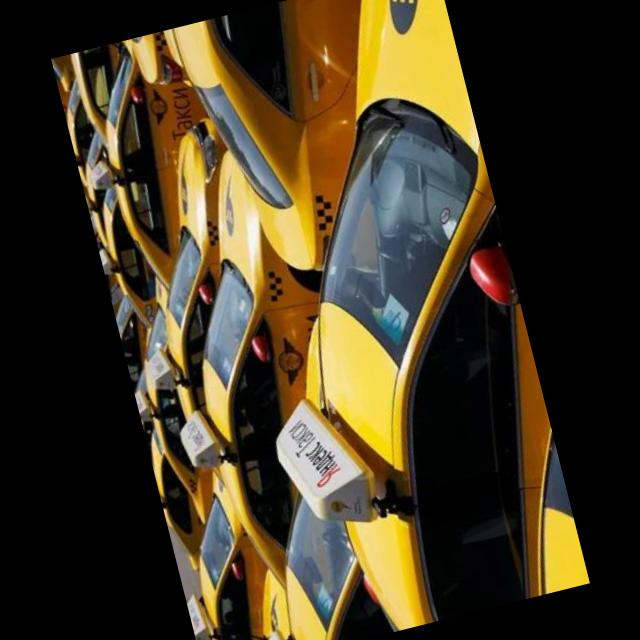taxi: (169, 1, 591, 640), (203, 152, 320, 582), (175, 1, 360, 268), (106, 44, 223, 285), (166, 118, 225, 418), (287, 498, 395, 640), (200, 474, 266, 640), (143, 368, 213, 522), (103, 189, 157, 326), (153, 430, 203, 569), (71, 43, 119, 139), (131, 30, 190, 83), (68, 81, 94, 184), (116, 297, 145, 382), (149, 307, 166, 359)
